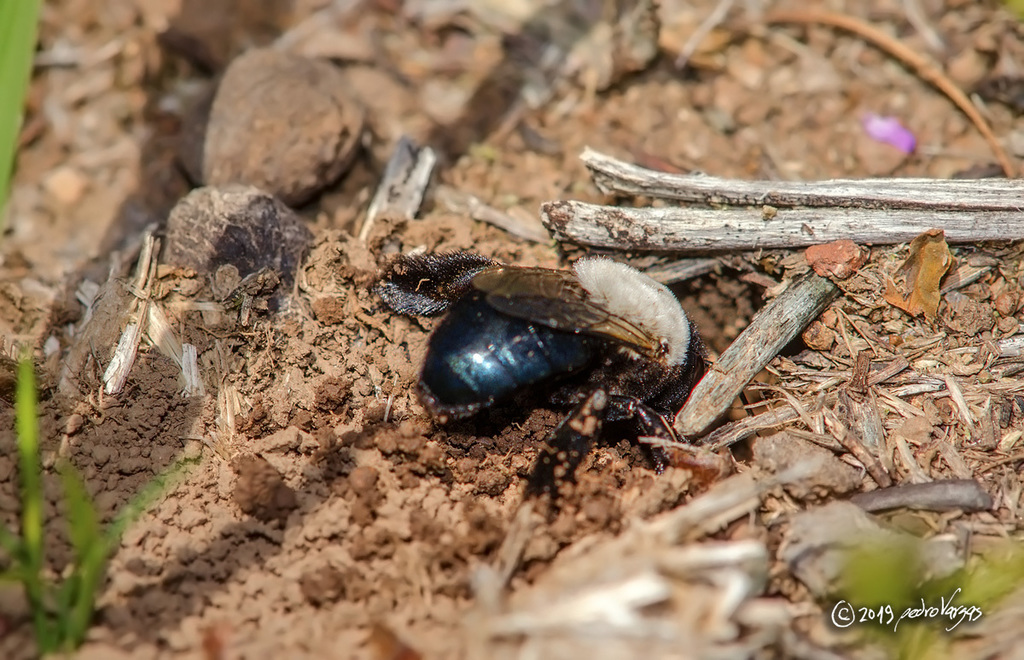not_bumblebee: (376, 249, 707, 447)
